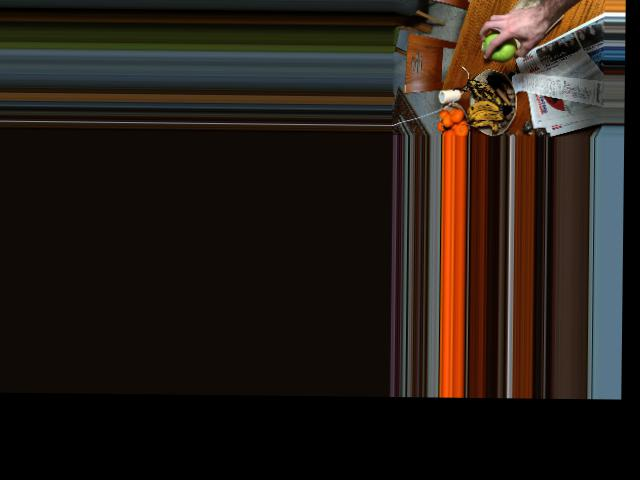apple: (482, 30, 518, 61)
